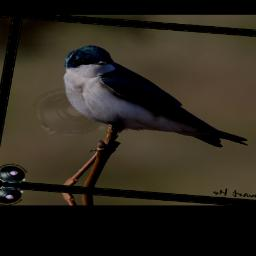Swallow: (50, 43, 256, 150)
